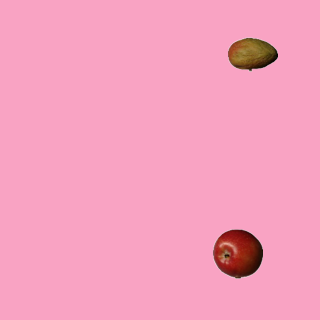Apple Braeburn: (212, 228, 262, 278)
Papaya: (227, 29, 277, 79)
